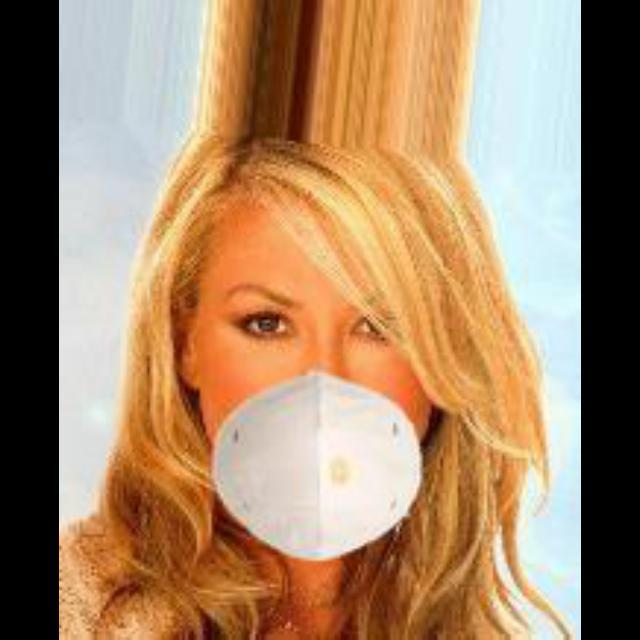suspicion: (128, 138, 534, 574)
